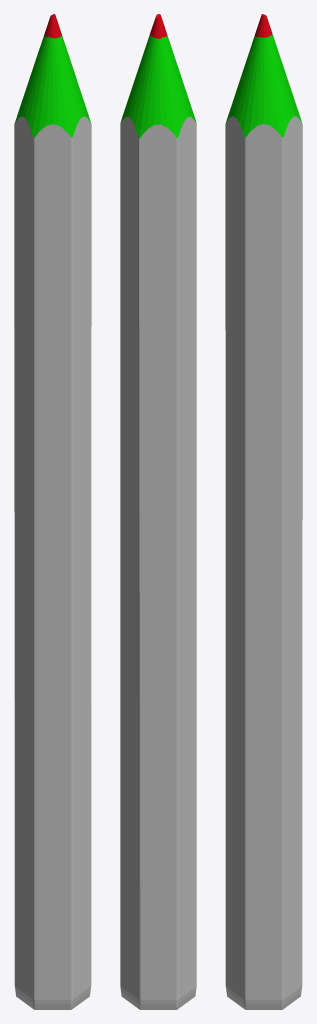
The model's file is PencilUnwrapped.fbx.
3 renders of one model, left to right at view 1: azimuth 90°, elevation 25°; view 2: azimuth 150°, elevation 25°; view 3: azimuth 270°, elevation 25°, orthographic.
Parts seen in each view (by area): view 1: Cylinder.003; view 2: Cylinder.003; view 3: Cylinder.003.
Part boxes in pixels (left/top/right/bottom): Cylinder.003: left=14, top=14, right=91, bottom=1009; Cylinder.003: left=120, top=14, right=196, bottom=1009; Cylinder.003: left=225, top=14, right=302, bottom=1009.
Bounding box in the file's own units: 55.97 × 905 × 64.63.
